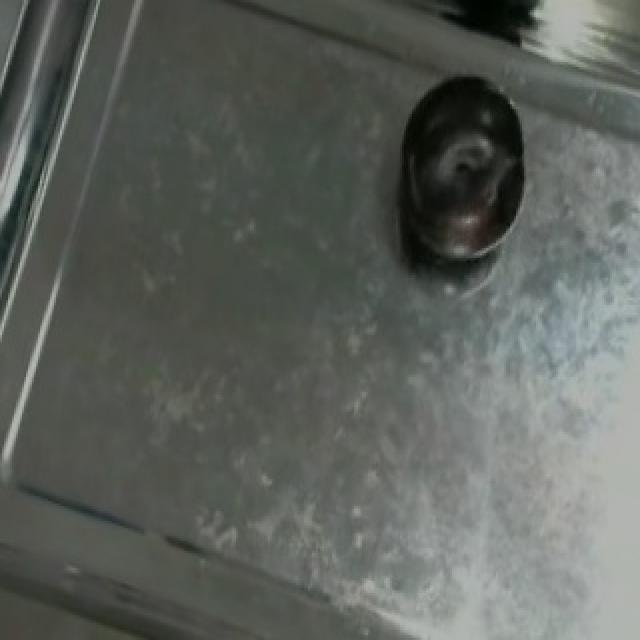Fruit: (382, 57, 542, 285)
